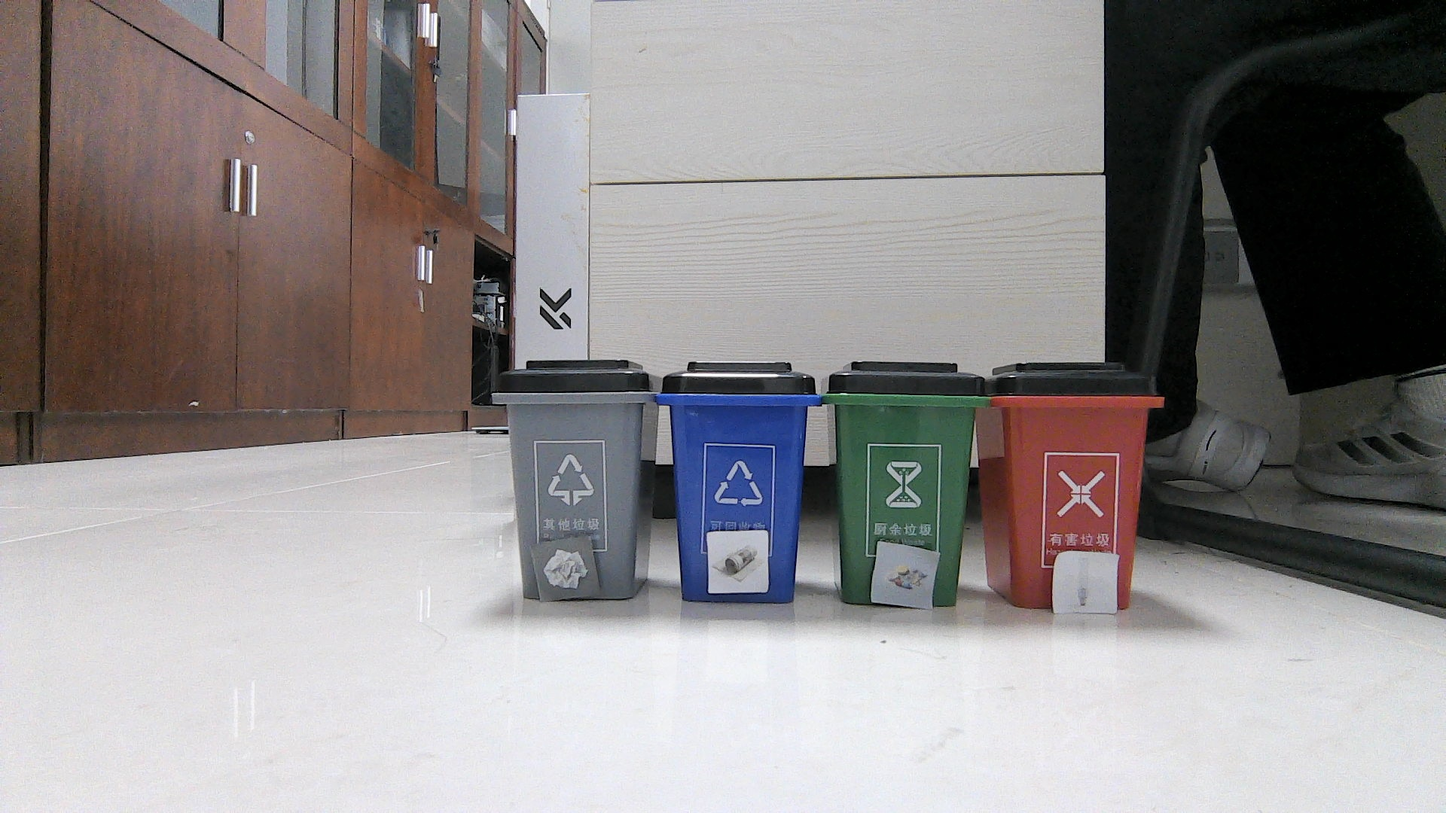hazardous_trash: (877, 548, 932, 605), (1058, 555, 1111, 610)
other_trash: (536, 547, 589, 593)
recyclable_trash: (711, 533, 765, 588)
